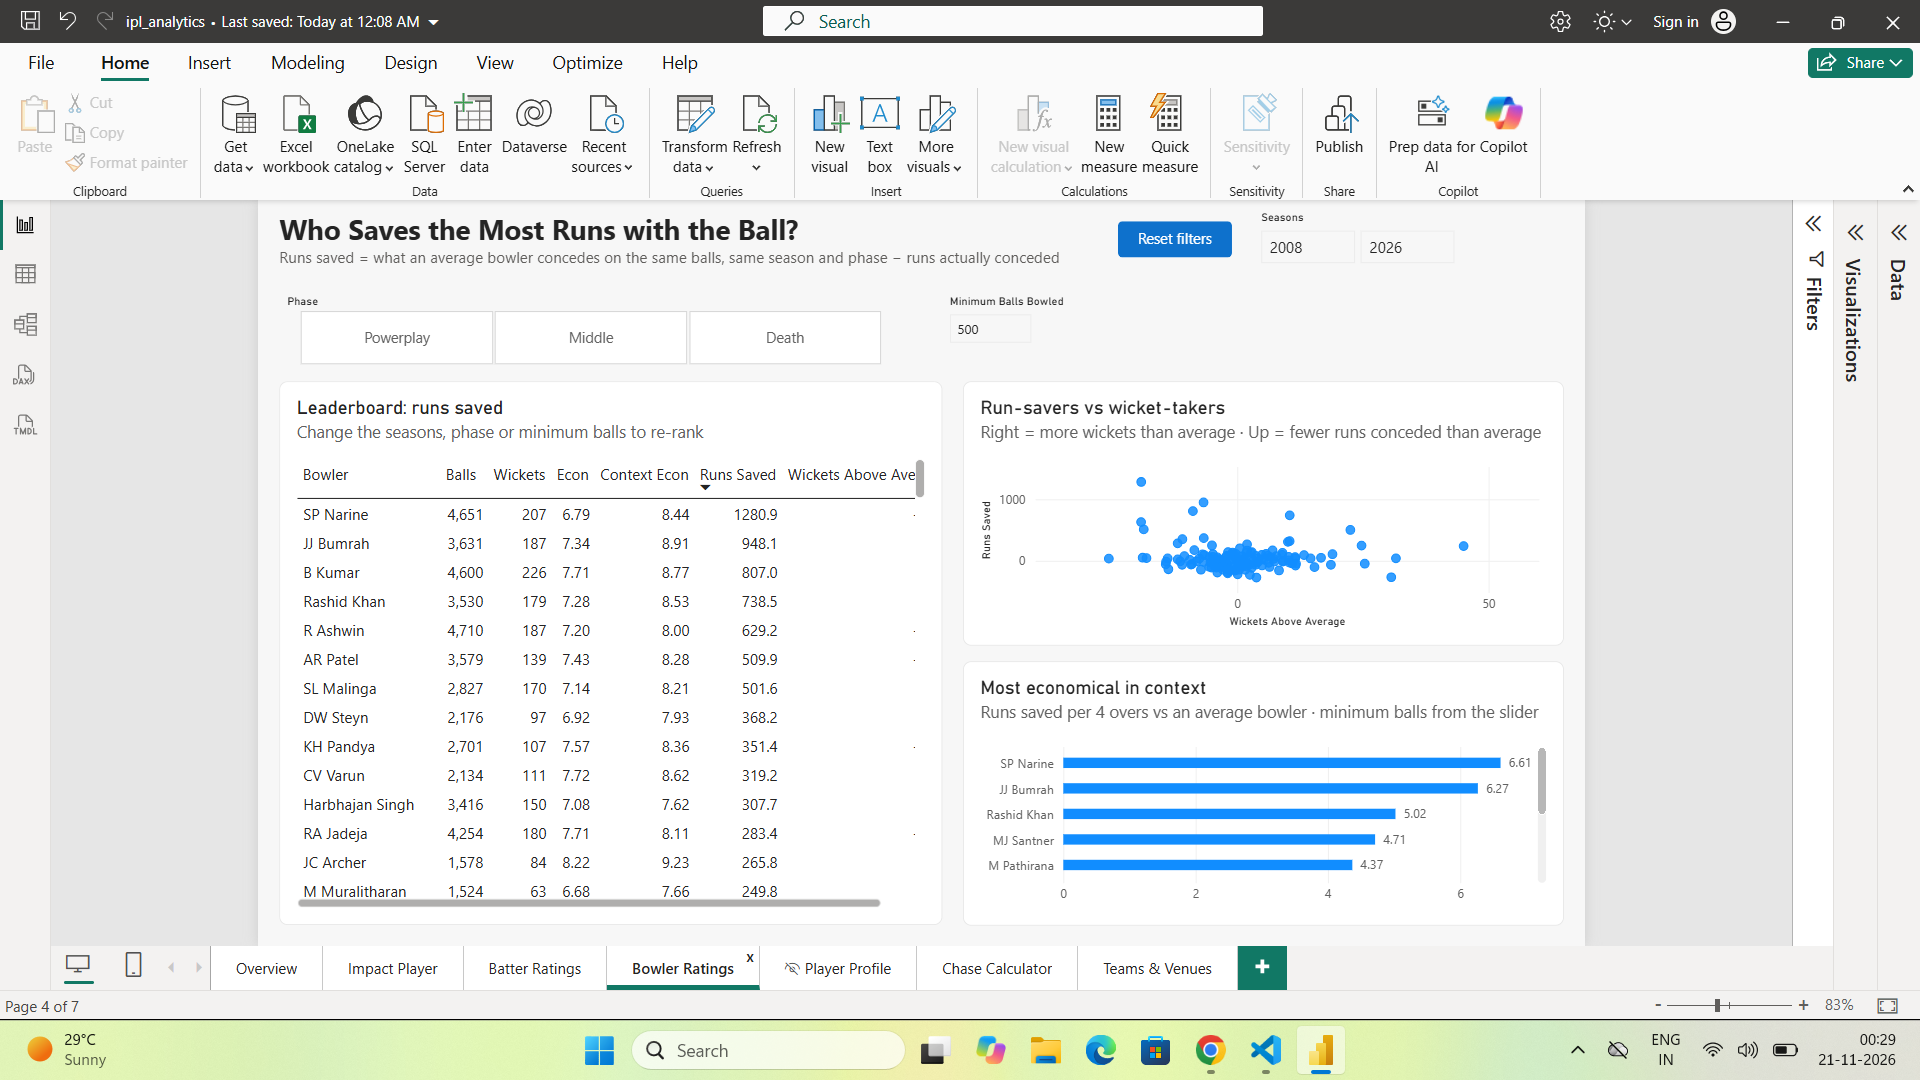

The dashboard page shown, as its layout file describes it:
{"tool":"powerbi","page":{"name":"Bowler Ratings","canvas":[1280,720],"ordinal":3},"visuals":[{"type":"textbox","box":[20,10,900,70],"z":0},{"type":"slicer","fields":{"Values":["dim_season.season"]},"box":[960,10,300,70],"z":1000},{"type":"slicer","fields":{"Values":["dim_phase.phase"]},"box":[20,90,600,70],"z":2000},{"type":"slicer","fields":{"Values":["Min Balls 2.Min Balls"]},"box":[660,90,600,70],"z":3000},{"type":"tableEx","title":"Leaderboard: runs saved","fields":{"Values":["dim_player.player","_Measures.Bowl Balls","_Measures.Bowl Wickets","_Measures.Economy","_Measures.Average Economy in Context","_Measures.Runs Saved","_Measures.Wickets Above Average"]},"box":[20,175,640,525],"z":4000},{"type":"scatterChart","title":"Run-savers vs wicket-takers","fields":{"Category":["dim_player.player"],"X":["_Measures.Wickets Above Average"],"Y":["_Measures.Runs Saved"]},"box":[680,175,580,255],"z":5000},{"type":"clusteredBarChart","title":"Most economical in context","fields":{"Category":["dim_player.player"],"Y":["_Measures.Runs Saved per 4 (Qualified)"]},"box":[680,445,580,255],"z":6000},{"type":"actionButton","box":[830,20,110,35],"z":6001}]}

Visuals, with their boxes on the page's 1280x720 design canvas (x1, y1, x2, y2). These are canvas units, not pixel positions in the 1920x1080 screenshot, which may show the page scaled, cropped or inside an application window:
textbox: 20:10:920:80
slicer - dim_season.season: 960:10:1260:80
slicer - dim_phase.phase: 20:90:620:160
slicer - Min Balls 2.Min Balls: 660:90:1260:160
"Leaderboard: runs saved" tableEx: 20:175:660:700
"Run-savers vs wicket-takers" scatterChart: 680:175:1260:430
"Most economical in context" clusteredBarChart: 680:445:1260:700
actionButton: 830:20:940:55
